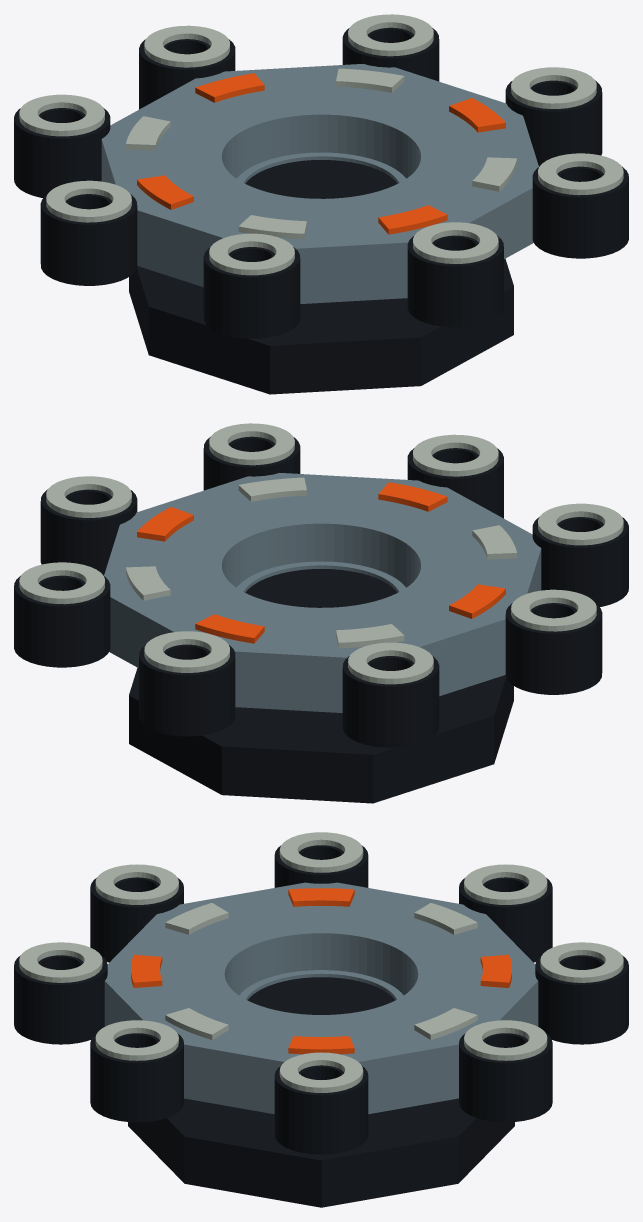
The picture shows the model from 3 angles, top to bottom: view 1: azimuth 30°, elevation 25°; view 2: azimuth 150°, elevation 25°; view 3: azimuth 270°, elevation 25°; orthographic projection. The views are drawn at different scales.
Visible parts, largest first — view 1: Rotating_octagonal_flange, Rear_octagonal_frame_plate, Socket_04_through_bore, Socket_03_through_bore, Socket_01_through_bore, Socket_02_through_bore, Socket_05_through_bore, Socket_00_through_bore, Rear_solid_mount_hub, Socket_06_through_bore, Socket_07_through_bore, Socket_07_front_lip (+16 smaller); view 2: Rotating_octagonal_flange, Rear_octagonal_frame_plate, Socket_04_through_bore, Socket_05_through_bore, Socket_07_through_bore, Socket_06_through_bore, Socket_03_through_bore, Socket_00_through_bore, Rear_solid_mount_hub, Socket_02_through_bore, Socket_01_through_bore, Socket_01_front_lip (+16 smaller); view 3: Rotating_octagonal_flange, Rear_octagonal_frame_plate, Socket_00_through_bore, Socket_01_through_bore, Socket_07_through_bore, Socket_02_through_bore, Socket_06_through_bore, Rear_solid_mount_hub, Socket_03_through_bore, Socket_05_through_bore, Socket_04_front_lip, Socket_01_front_lip (+16 smaller).
Boxes of the visible parts, bbox=[...] form: Rotating_octagonal_flange: bbox=[101, 64, 538, 303]; Rear_octagonal_frame_plate: bbox=[129, 258, 513, 394]; Socket_04_through_bore: bbox=[40, 194, 137, 285]; Socket_03_through_bore: bbox=[203, 247, 300, 338]; Socket_01_through_bore: bbox=[532, 166, 628, 258]; Socket_02_through_bore: bbox=[407, 235, 503, 327]; Socket_05_through_bore: bbox=[14, 108, 110, 197]; Socket_00_through_bore: bbox=[505, 80, 602, 166]; Rear_solid_mount_hub: bbox=[245, 160, 397, 198]; Socket_06_through_bore: bbox=[139, 39, 235, 109]; Socket_07_through_bore: bbox=[342, 27, 439, 81]; Socket_07_front_lip: bbox=[348, 14, 433, 56]; Rotating_octagonal_flange: bbox=[104, 473, 541, 712]; Rear_octagonal_frame_plate: bbox=[129, 667, 513, 803]; Socket_04_through_bore: bbox=[505, 603, 602, 694]; Socket_05_through_bore: bbox=[342, 656, 439, 747]; Socket_07_through_bore: bbox=[14, 575, 110, 667]; Socket_06_through_bore: bbox=[139, 644, 235, 736]; Socket_03_through_bore: bbox=[532, 517, 628, 606]; Socket_00_through_bore: bbox=[40, 489, 137, 575]; Rear_solid_mount_hub: bbox=[245, 569, 397, 607]; Socket_02_through_bore: bbox=[407, 448, 503, 518]; Socket_01_through_bore: bbox=[203, 436, 300, 490]; Socket_01_front_lip: bbox=[209, 423, 294, 465]; Rotating_octagonal_flange: bbox=[104, 882, 538, 1114]; Rear_octagonal_frame_plate: bbox=[128, 1098, 514, 1207]; Socket_00_through_bore: bbox=[274, 1065, 368, 1154]; Socket_01_through_bore: bbox=[90, 1033, 183, 1122]; Socket_07_through_bore: bbox=[459, 1033, 552, 1122]; Socket_02_through_bore: bbox=[14, 955, 107, 1044]; Socket_06_through_bore: bbox=[535, 955, 628, 1044]; Rear_solid_mount_hub: bbox=[247, 977, 395, 1014]; Socket_03_through_bore: bbox=[90, 877, 183, 962]; Socket_05_through_bore: bbox=[459, 877, 552, 962]; Socket_04_front_lip: bbox=[279, 832, 363, 872]; Socket_01_front_lip: bbox=[95, 1020, 178, 1060].
Bounding box in the file's own units: 0.826 × 0.266 × 0.826.
